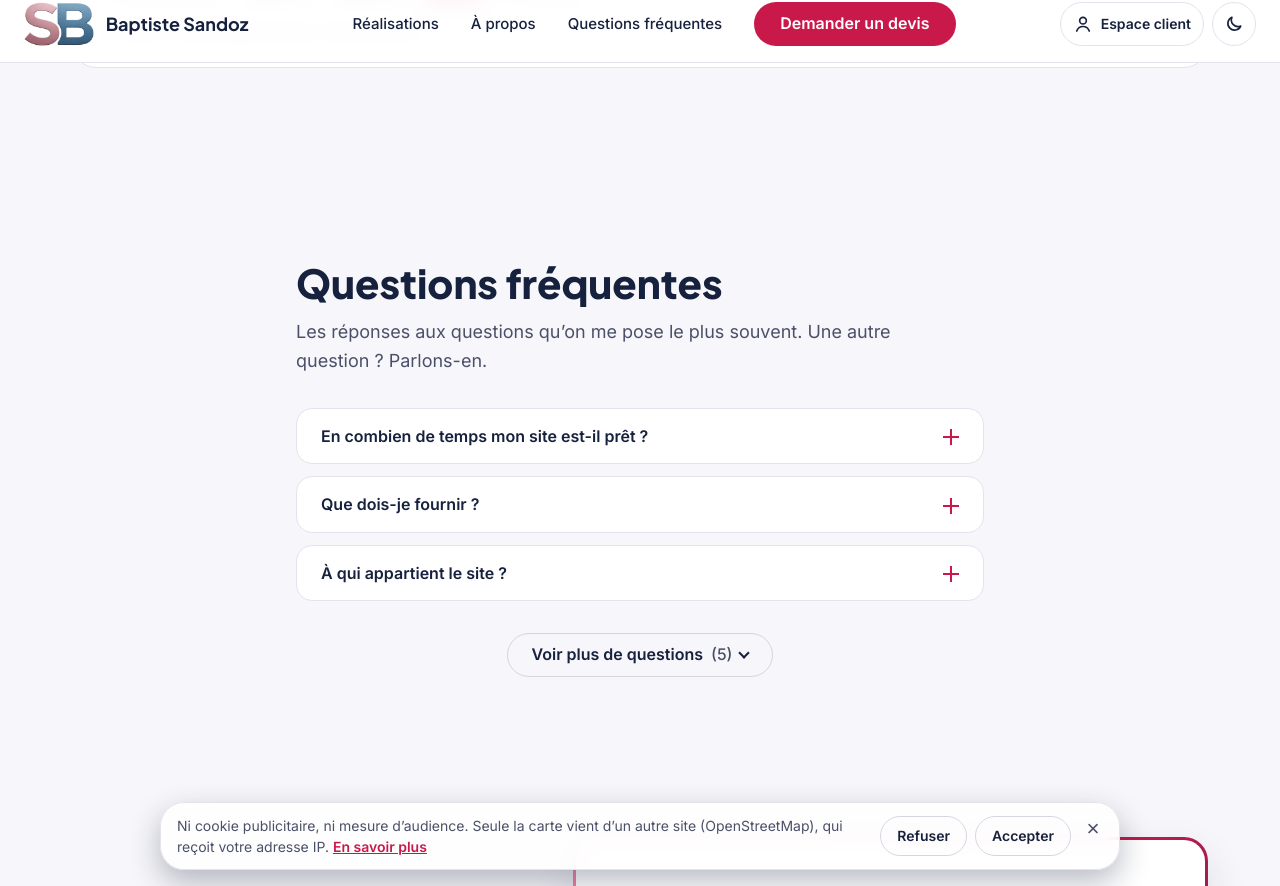
Test: Page d'accueil › Questions fréquentes › déplie une réponse au clic, sans prix
(page scrolled)
Click the heading "En combien de temps mon site est-il prêt ?" at point(640, 436), box x1=321 y1=426 x2=959 y2=446
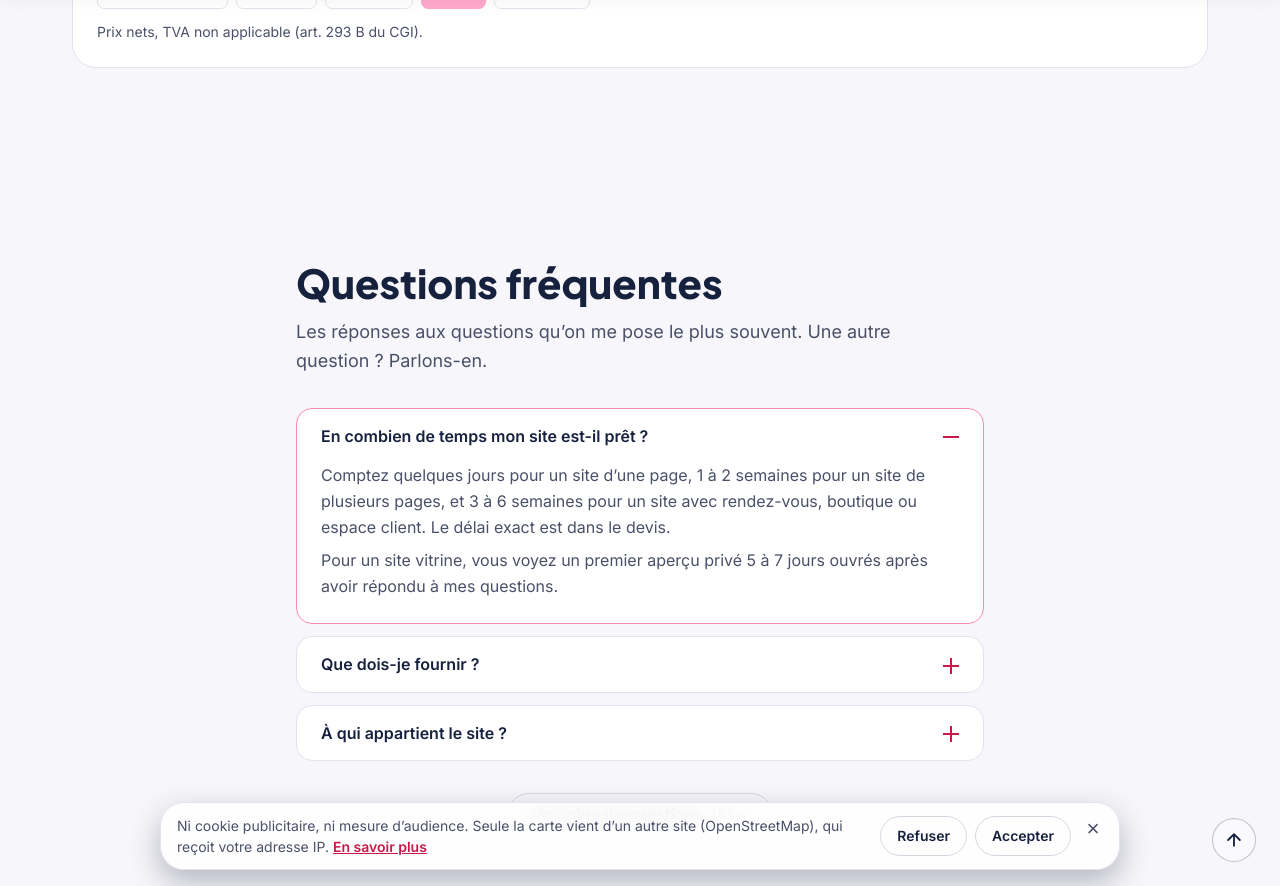
Now the element with id "delais" shows "Comptez quelques jours pour un site d’une page, 1 à 2 semaines pour un site de plusieurs pages", box x1=321 y1=465 x2=925 y2=536
